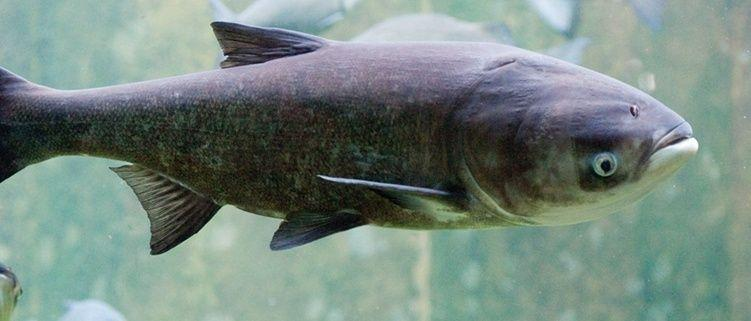Big Head Carp: (0, 19, 705, 259)
